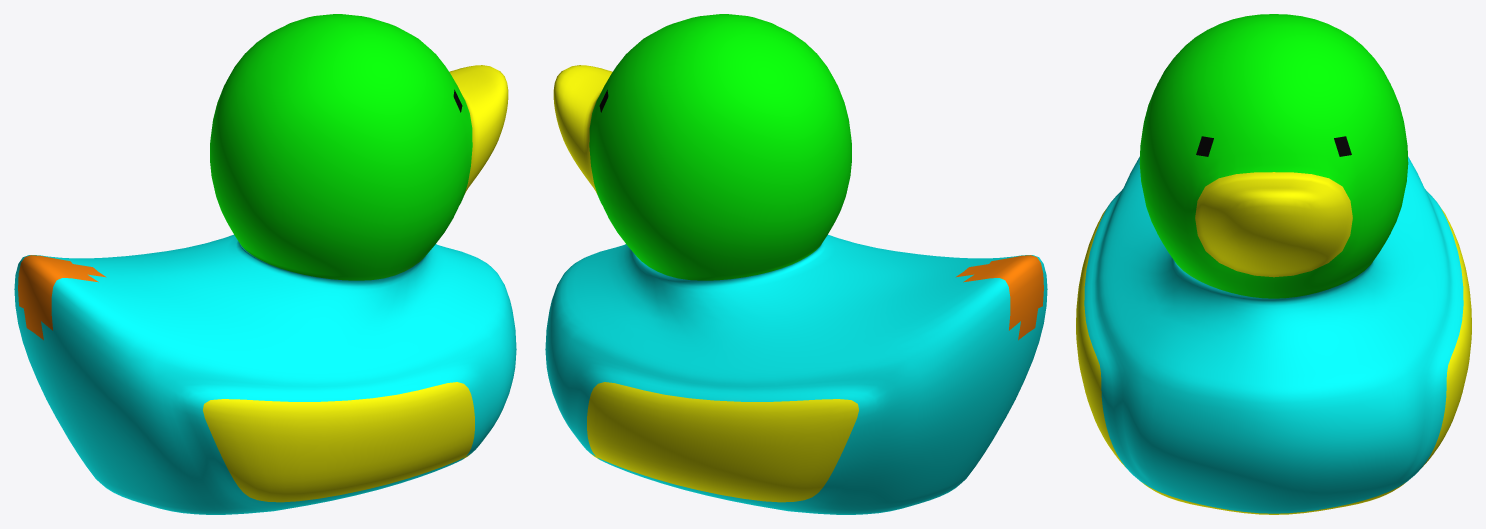
File: Duck.fbx
3 renders of one model, left to right at view 1: azimuth 30°, elevation 25°; view 2: azimuth 150°, elevation 25°; view 3: azimuth 270°, elevation 25°, orthographic. The views are drawn at different scales.
Visible parts, largest first — view 1: RubberDuck_LOD0; view 2: RubberDuck_LOD0; view 3: RubberDuck_LOD0.
Boxes of the visible parts, x1,y1,x2,y2 form: RubberDuck_LOD0: (14,14,516,514); RubberDuck_LOD0: (545,14,1047,514); RubberDuck_LOD0: (1076,14,1471,514).
Bounding box in the file's own units: 4471 × 3745 × 3075.
1 material, 1 textured.
